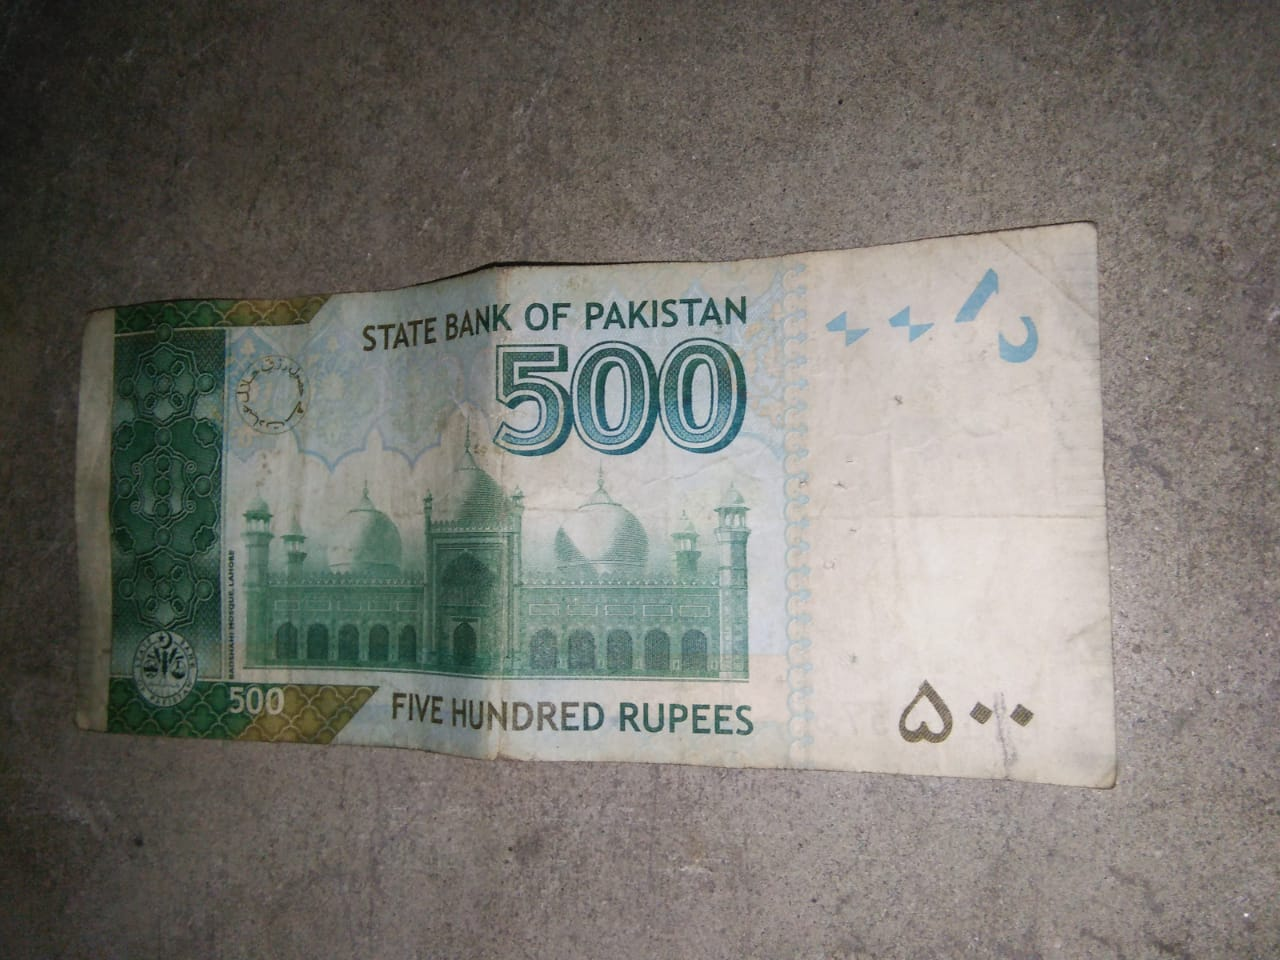500 rupee: (58, 233, 1134, 799)
